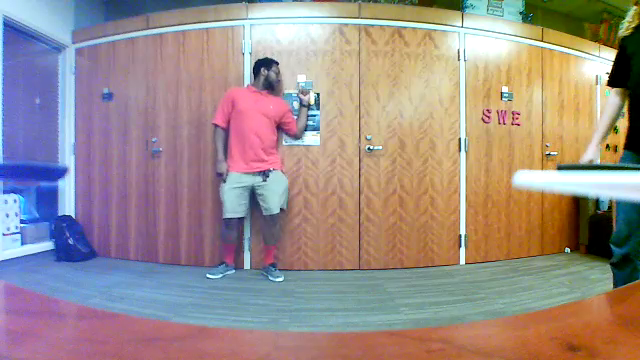up: (296, 79, 312, 106)
